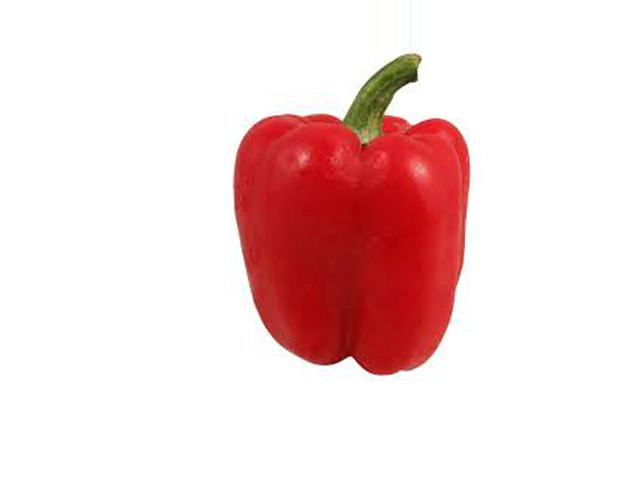bell_pepper: (198, 55, 479, 376)
